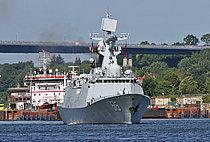MIL_Ship: (55, 31, 152, 125)
